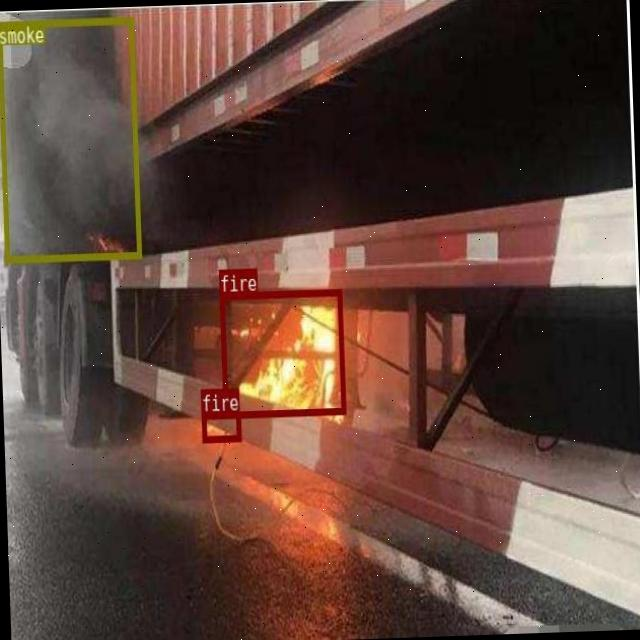fire: (219, 288, 344, 417), (201, 410, 240, 441)
smoke: (0, 15, 140, 261)
